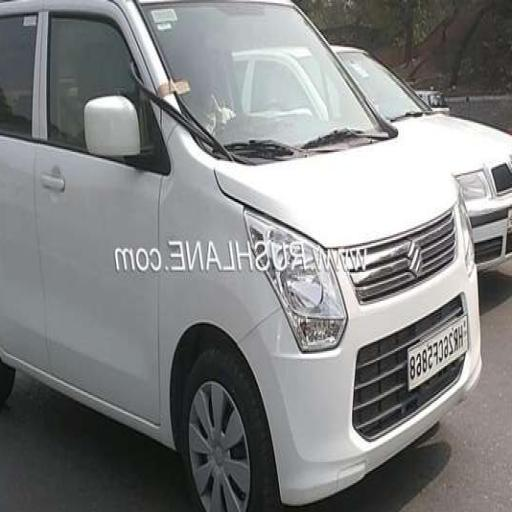License: (405, 308, 477, 391)
